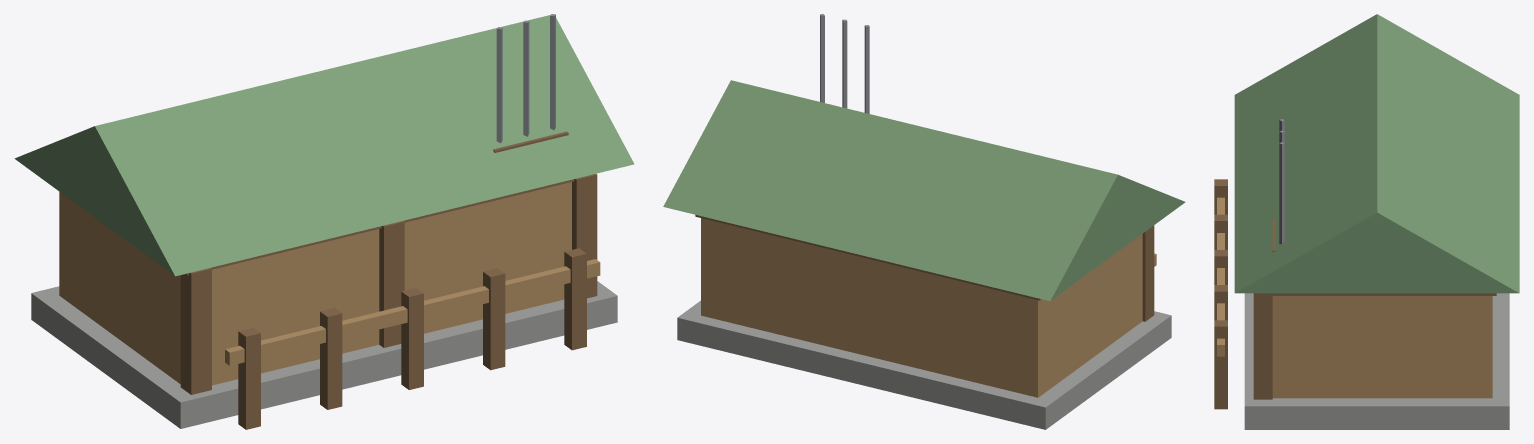
Rendered from Barracks.fbx.
3 views of the same model, side by side, from view 1: azimuth 30°, elevation 25°; view 2: azimuth 150°, elevation 25°; view 3: azimuth 270°, elevation 25° (orthographic). The views are drawn at different scales.
Parts seen in each view (by area): view 1: Barracks_Roof, Barracks_Hall, Barracks_Base, Barracks_FenceRail, Barracks_Post, Barracks_Post.001, Barracks_Post.002, Barracks_FencePost.001, Barracks_FencePost.003, Barracks_FencePost.004, Barracks_FencePost, Barracks_FencePost.002 (+4 smaller); view 2: Barracks_Roof, Barracks_Hall, Barracks_Base, Barracks_Post, Barracks_Plate, Barracks_Spear.001, Barracks_Spear; view 3: Barracks_Roof, Barracks_Hall, Barracks_Base, Barracks_Post.002, Barracks_FencePost.004, Barracks_Plate, Barracks_FenceRail, Barracks_Spear.002, Barracks_FencePost, Barracks_FencePost.001, Barracks_FencePost.003, Barracks_FencePost.002.
Part boxes in pixels (<box>): Barracks_Roof: <box>14,15,634,276</box>; Barracks_Hall: <box>59,182,571,385</box>; Barracks_Base: <box>31,281,617,428</box>; Barracks_FenceRail: <box>225,259,600,365</box>; Barracks_Post: <box>180,268,211,394</box>; Barracks_Post.001: <box>379,221,404,347</box>; Barracks_Post.002: <box>572,174,597,298</box>; Barracks_FencePost.001: <box>320,308,342,409</box>; Barracks_FencePost.003: <box>483,268,505,370</box>; Barracks_FencePost.004: <box>564,248,586,350</box>; Barracks_FencePost: <box>238,328,260,429</box>; Barracks_FencePost.002: <box>401,288,423,389</box>; Barracks_Roof: <box>663,80,1185,301</box>; Barracks_Hall: <box>701,218,1142,397</box>; Barracks_Base: <box>677,300,1171,429</box>; Barracks_Post: <box>1142,225,1154,321</box>; Barracks_Plate: <box>695,215,1041,300</box>; Barracks_Spear.001: <box>842,19,847,108</box>; Barracks_Spear: <box>864,25,869,113</box>; Barracks_Roof: <box>1234,14,1519,293</box>; Barracks_Hall: <box>1272,296,1492,398</box>; Barracks_Base: <box>1244,293,1509,429</box>; Barracks_Post.002: <box>1253,293,1272,399</box>; Barracks_FencePost.004: <box>1214,320,1227,409</box>; Barracks_Plate: <box>1257,293,1496,295</box>; Barracks_FenceRail: <box>1217,197,1224,356</box>; Barracks_Spear.002: <box>1279,142,1284,244</box>; Barracks_FencePost: <box>1214,179,1227,214</box>; Barracks_FencePost.001: <box>1214,214,1227,249</box>; Barracks_FencePost.003: <box>1214,285,1227,320</box>; Barracks_FencePost.002: <box>1214,250,1227,284</box>.
Size of the model in its own units: 286 by 180 by 186.
